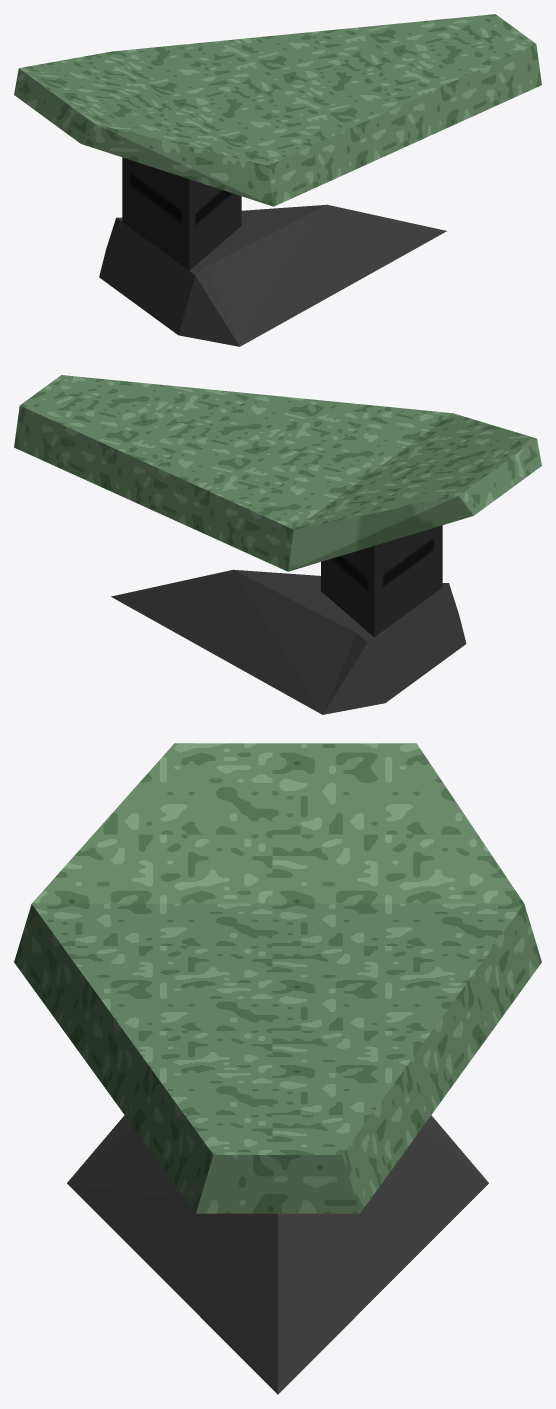
The model's file is slab.obj.
3 renders of one model, top to bottom at view 1: azimuth 30°, elevation 25°; view 2: azimuth 150°, elevation 25°; view 3: azimuth 270°, elevation 25°, orthographic. The views are drawn at different scales.
Parts seen in each view (by area): view 1: entity0_brush0, entity0_brush1, entity0_brush3, entity0_brush4, entity0_brush2; view 2: entity0_brush0, entity0_brush3, entity0_brush1, entity0_brush4, entity0_brush2; view 3: entity0_brush0, entity0_brush1, entity0_brush3, entity0_brush4.
Part boxes in pixels (bbox=[...]): entity0_brush0: bbox=[112, 14, 541, 206]; entity0_brush1: bbox=[14, 51, 273, 206]; entity0_brush3: bbox=[200, 204, 446, 346]; entity0_brush4: bbox=[99, 217, 239, 346]; entity0_brush2: bbox=[122, 157, 241, 270]; entity0_brush0: bbox=[14, 375, 452, 571]; entity0_brush3: bbox=[111, 569, 363, 714]; entity0_brush1: bbox=[288, 413, 541, 571]; entity0_brush4: bbox=[323, 583, 466, 714]; entity0_brush2: bbox=[321, 525, 442, 637]; entity0_brush0: bbox=[14, 903, 541, 1213]; entity0_brush1: bbox=[32, 743, 523, 903]; entity0_brush3: bbox=[67, 1127, 488, 1394]; entity0_brush4: bbox=[67, 1115, 488, 1182].
Size of the model in its own units: 96 by 44.5 by 60.
